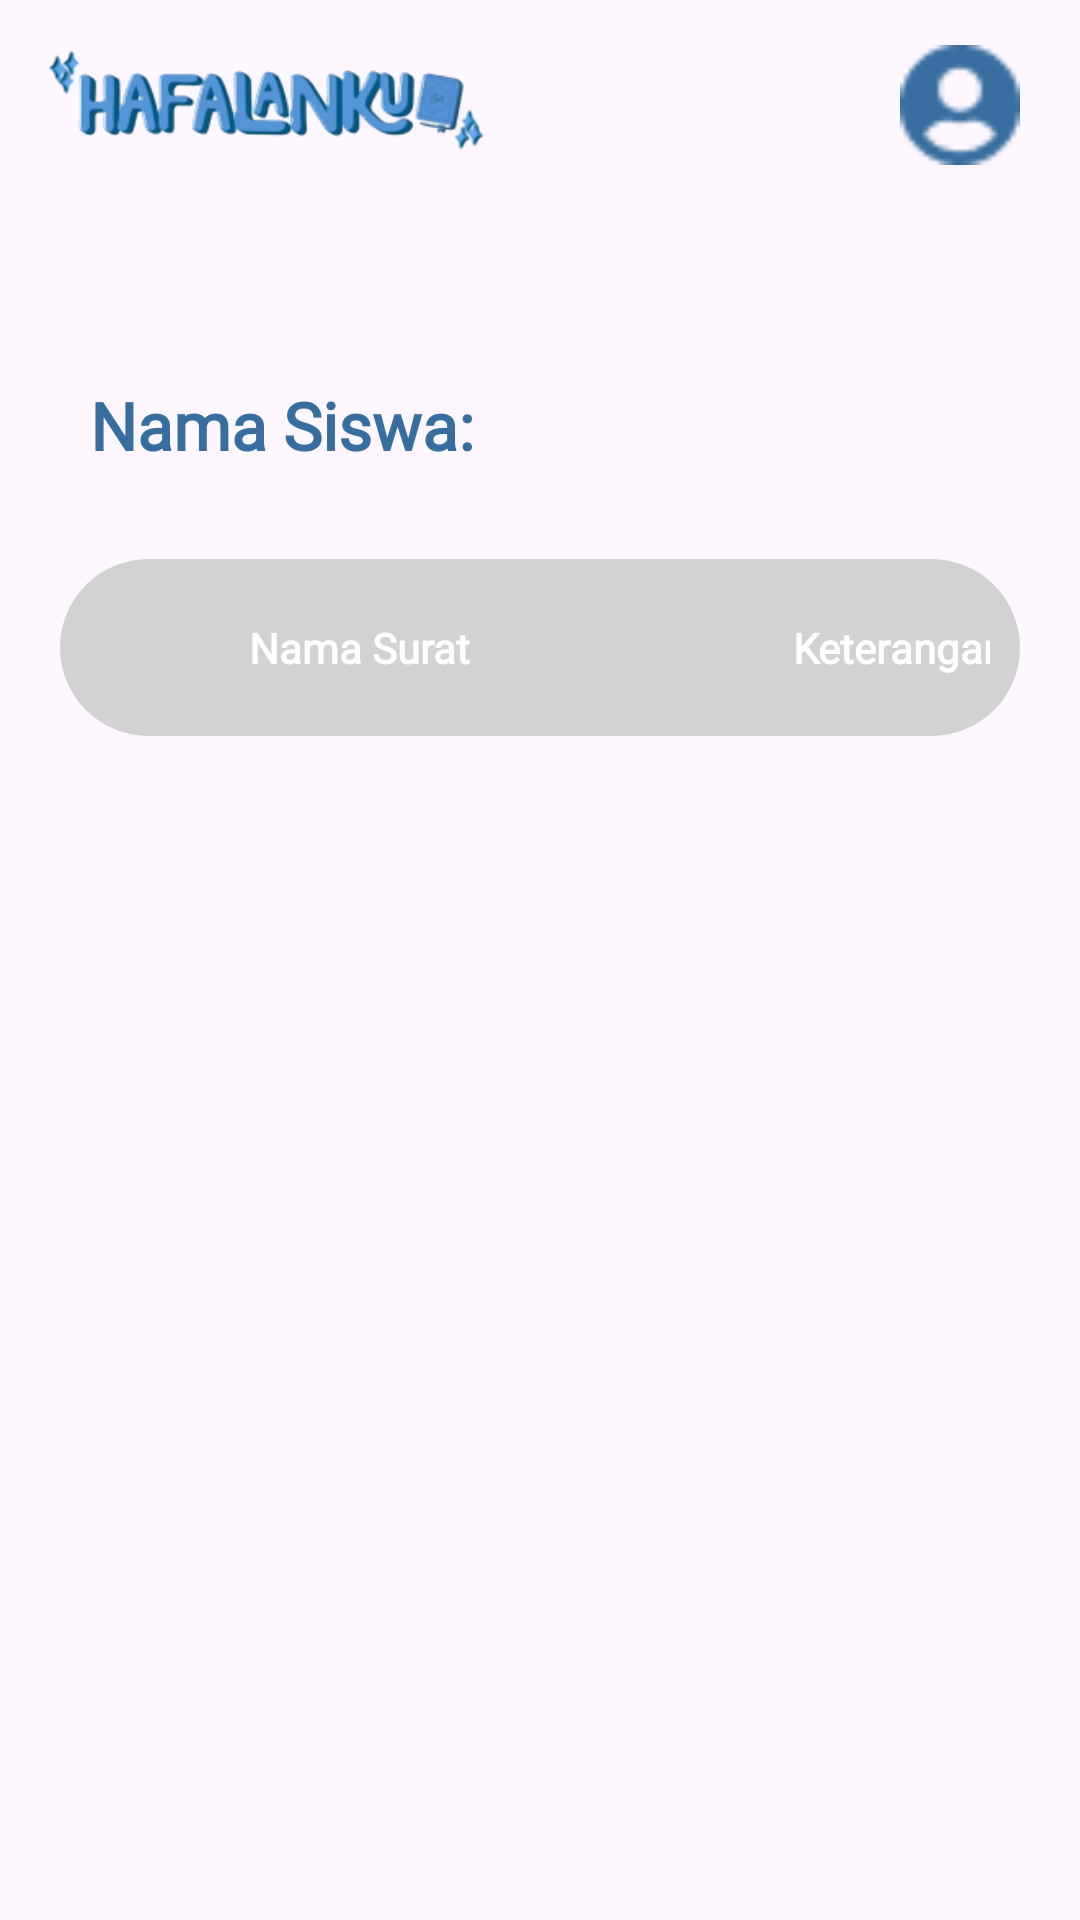

Where icons sit on this 1080*1920 app screen, as (x1, y1, x2, y2):
profile: (900, 45, 1020, 165)
